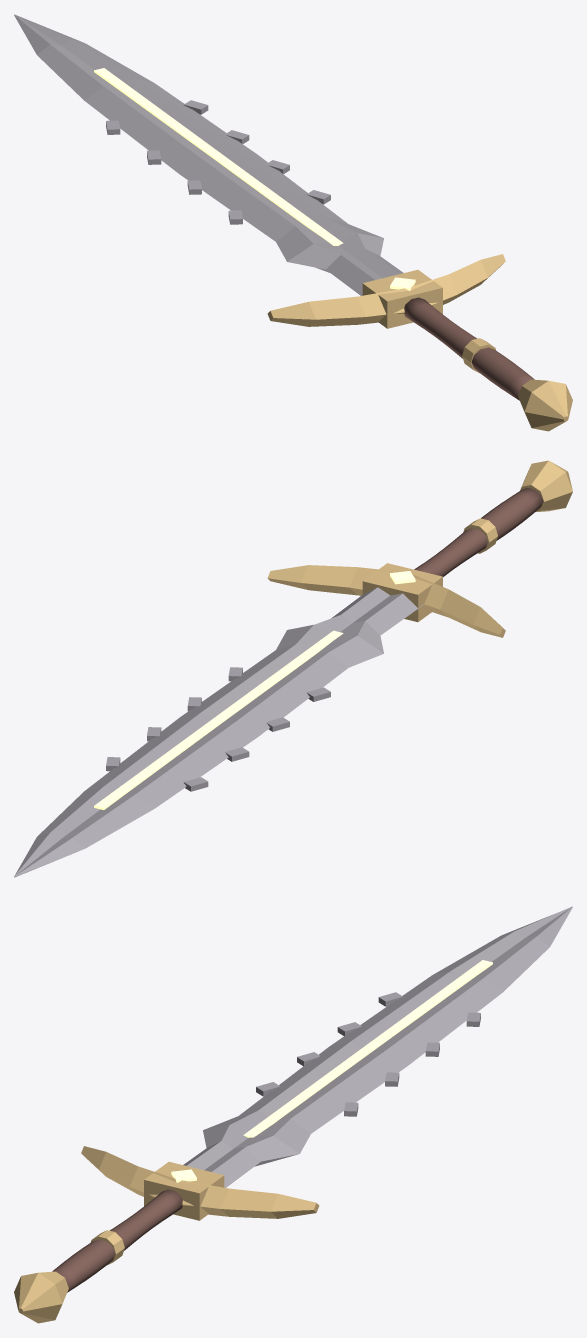
Rendered from Berserker_Greatsword.fbx.
3 views of the same model, one above another, from view 1: azimuth 30°, elevation 25°; view 2: azimuth 150°, elevation 25°; view 3: azimuth 330°, elevation 25° (orthographic).
Visible parts, largest first — view 1: BerserkerGS_Blade, BerserkerGS_GuardPommel, BerserkerGS_Grip, BerserkerGS_RuneDetail; view 2: BerserkerGS_Blade, BerserkerGS_GuardPommel, BerserkerGS_Grip, BerserkerGS_RuneDetail; view 3: BerserkerGS_Blade, BerserkerGS_GuardPommel, BerserkerGS_Grip, BerserkerGS_RuneDetail.
Boxes of the visible parts, box(x1,y1,x2,y2) form: BerserkerGS_Blade: box(14, 14, 403, 295); BerserkerGS_GuardPommel: box(267, 254, 572, 431); BerserkerGS_Grip: box(404, 297, 534, 400); BerserkerGS_RuneDetail: box(94, 68, 415, 290); BerserkerGS_Blade: box(14, 587, 424, 877); BerserkerGS_GuardPommel: box(267, 460, 572, 637); BerserkerGS_Grip: box(414, 487, 543, 576); BerserkerGS_RuneDetail: box(94, 571, 415, 809); BerserkerGS_Blade: box(183, 906, 572, 1187); BerserkerGS_GuardPommel: box(14, 1146, 319, 1323); BerserkerGS_Grip: box(52, 1189, 182, 1292); BerserkerGS_RuneDetail: box(171, 960, 492, 1182).
Bounding box in the file's own units: 0.46 × 0.096 × 1.89.
